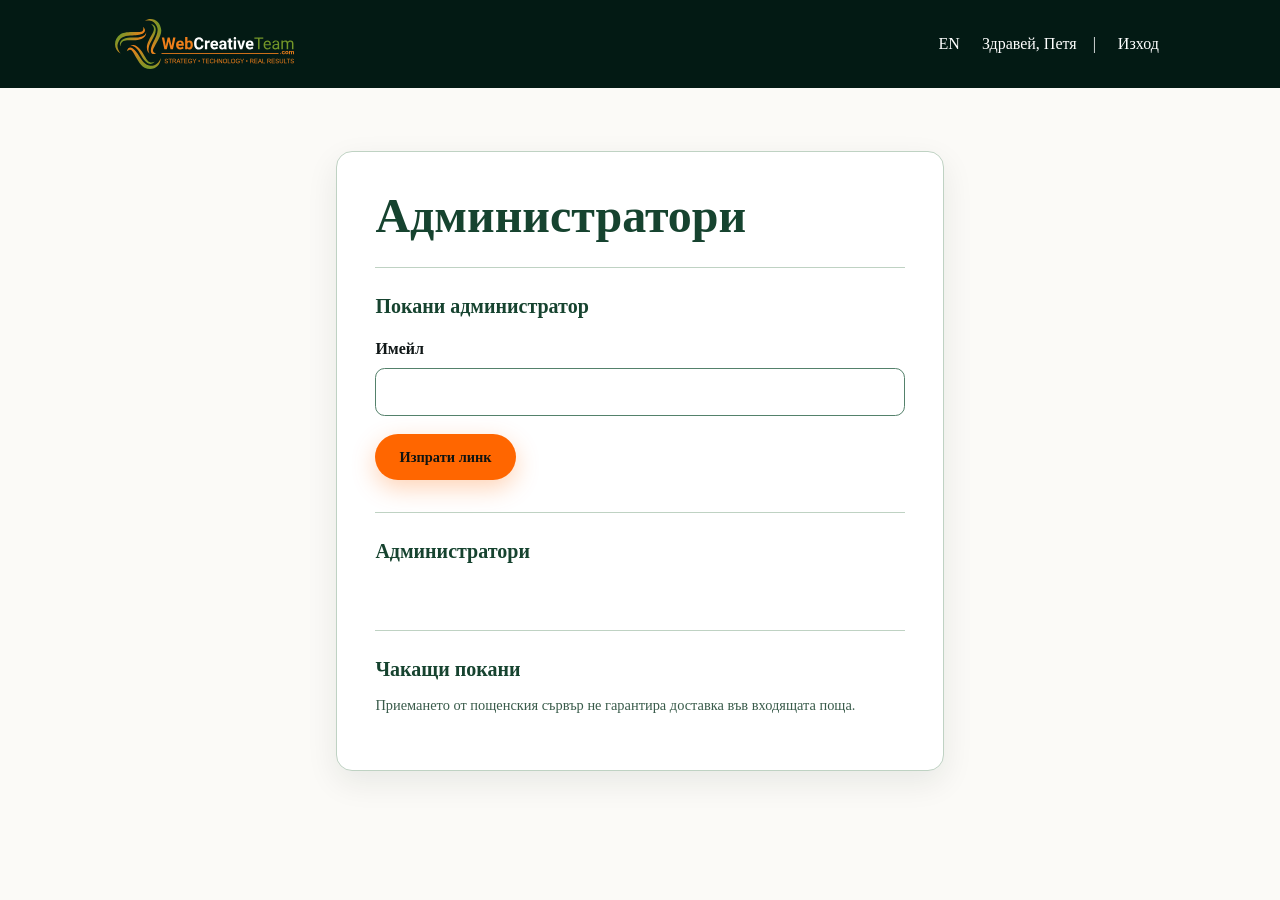
administrator confirmation › prompts once, clears a cancelled password, and retries an invitation with the rotated CSRF token
The width and height of the screenshot is (1280, 900).
Expected: the field labelled "Текуща парола" is not shown
In the field labelled "Имейл": (640, 392) 376,369 -> 904,415, type "partner@example.test"
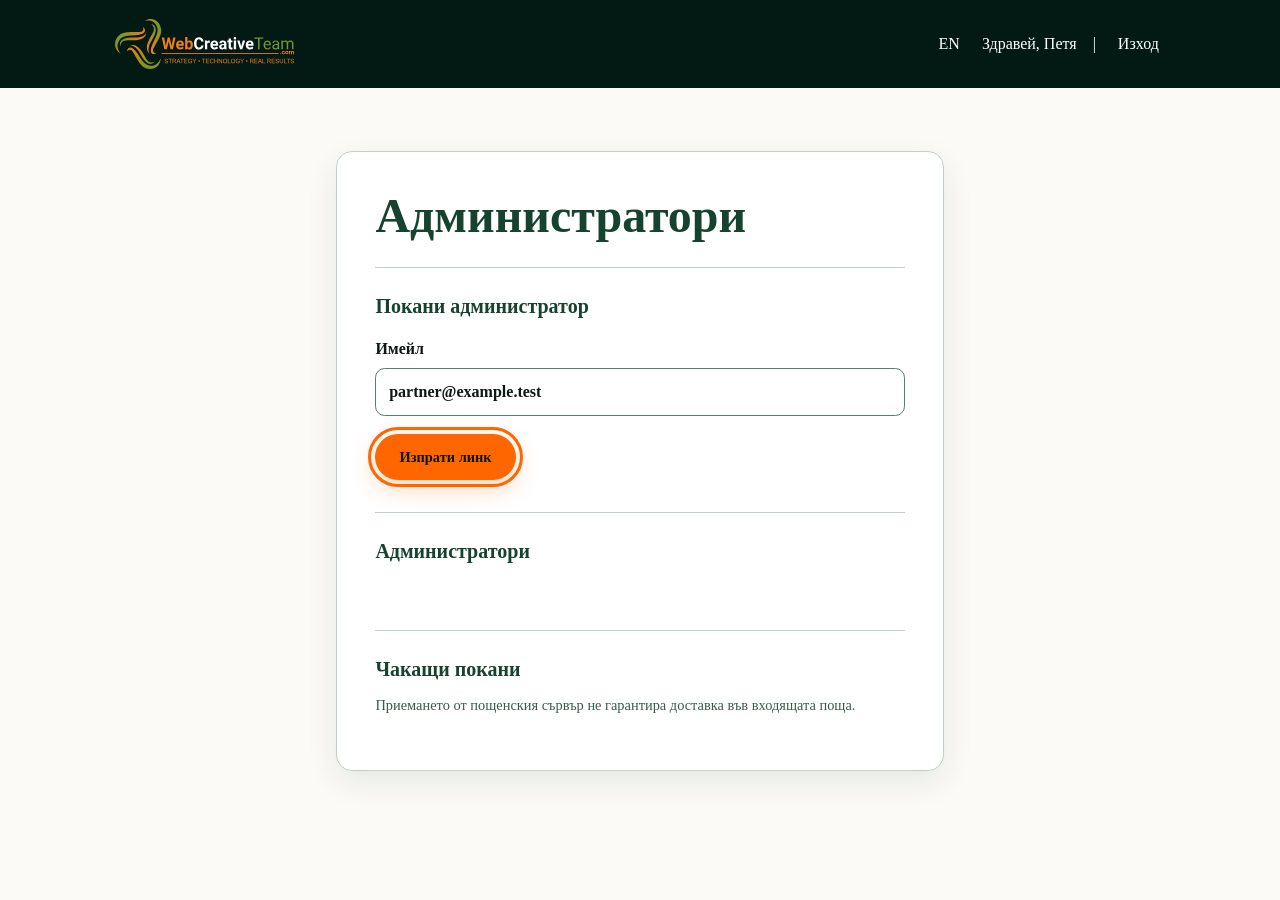
Click the button "Изпрати линк": (446, 457) 375,434 -> 516,480
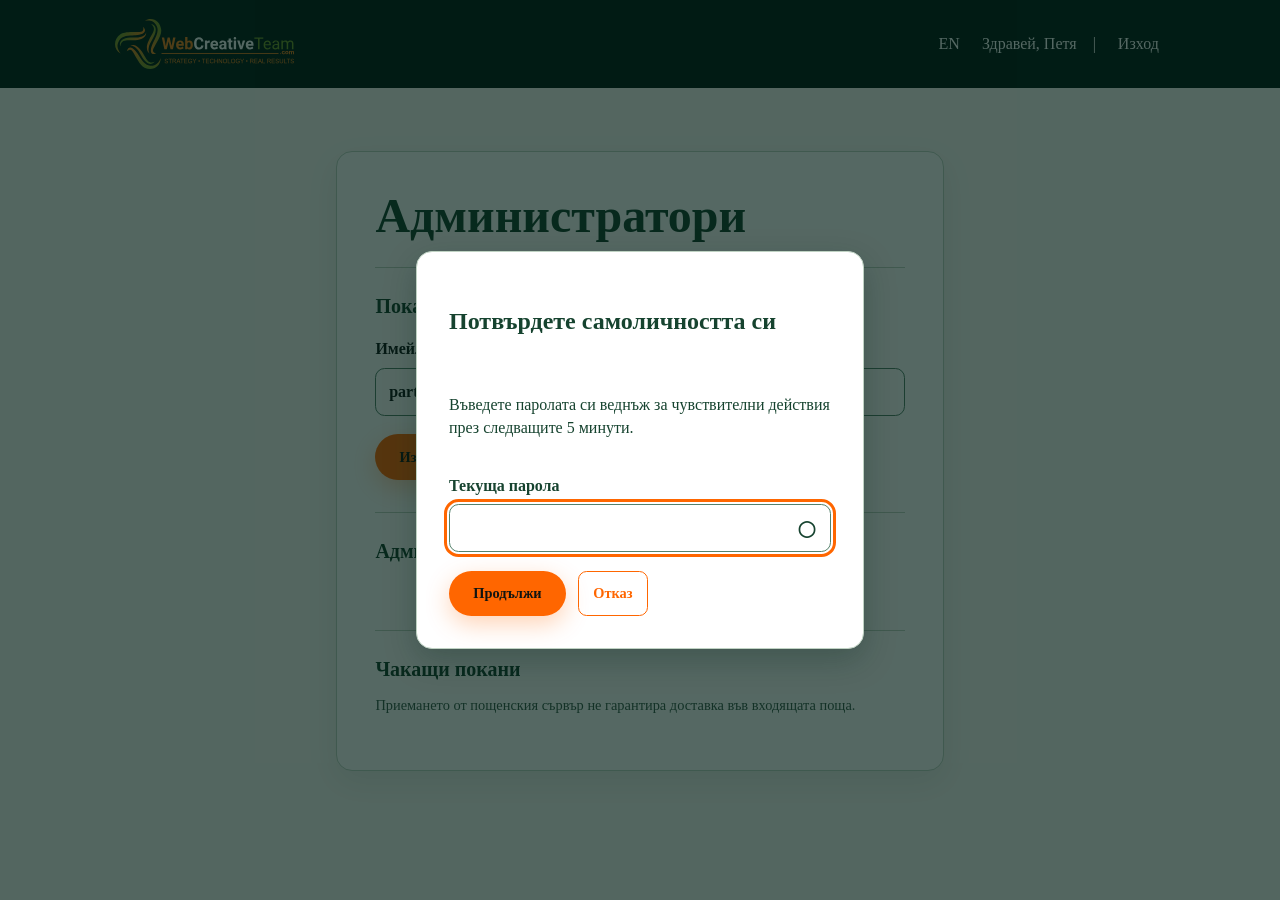
In the password field labelled "Текуща парола": (617, 528) 450,505 -> 784,551, type "temporary secret"
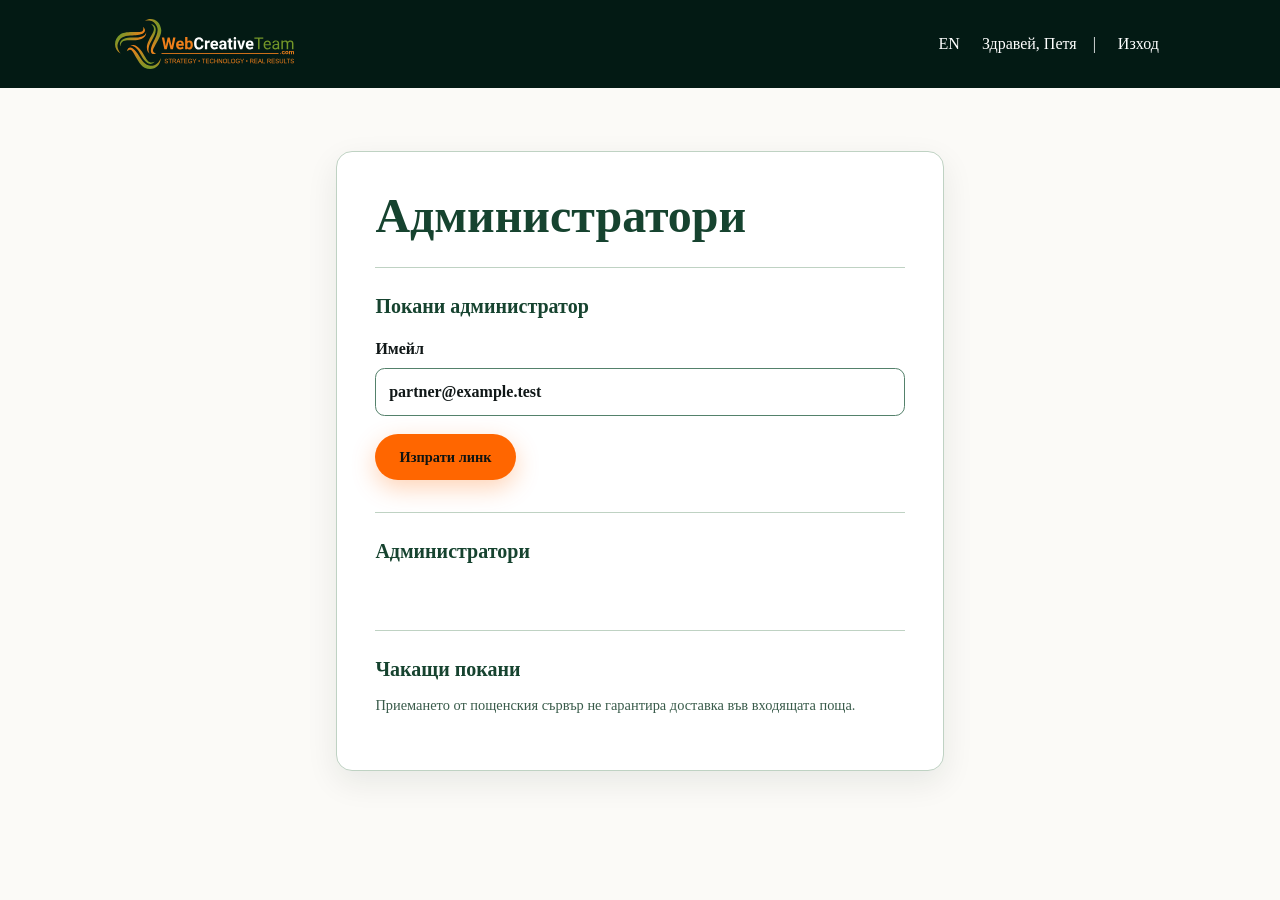
Click the button "Изпрати линк": (446, 457) 375,434 -> 516,480
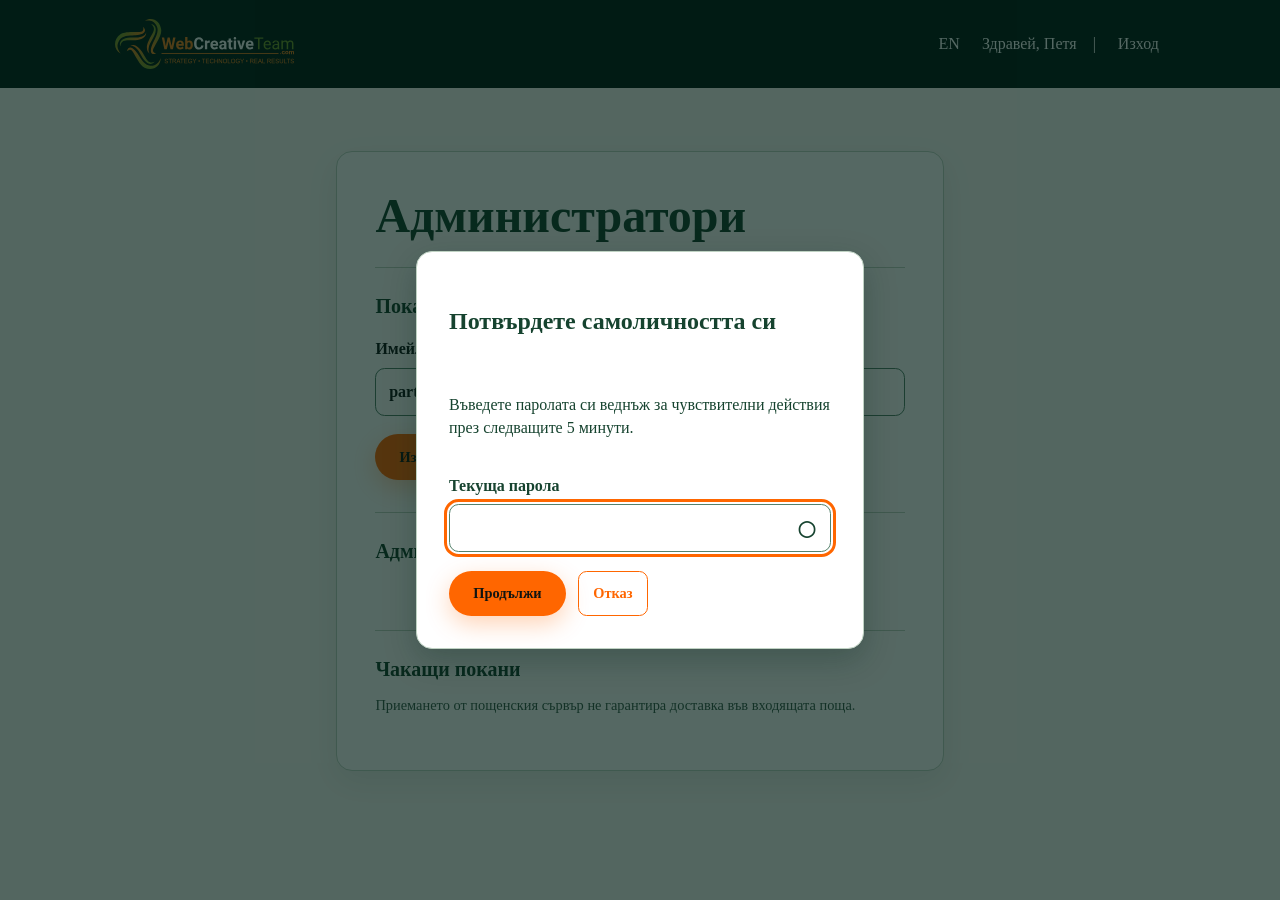
In the password field labelled "Текуща парола": (617, 528) 450,505 -> 784,551, type "correct horse battery staple"
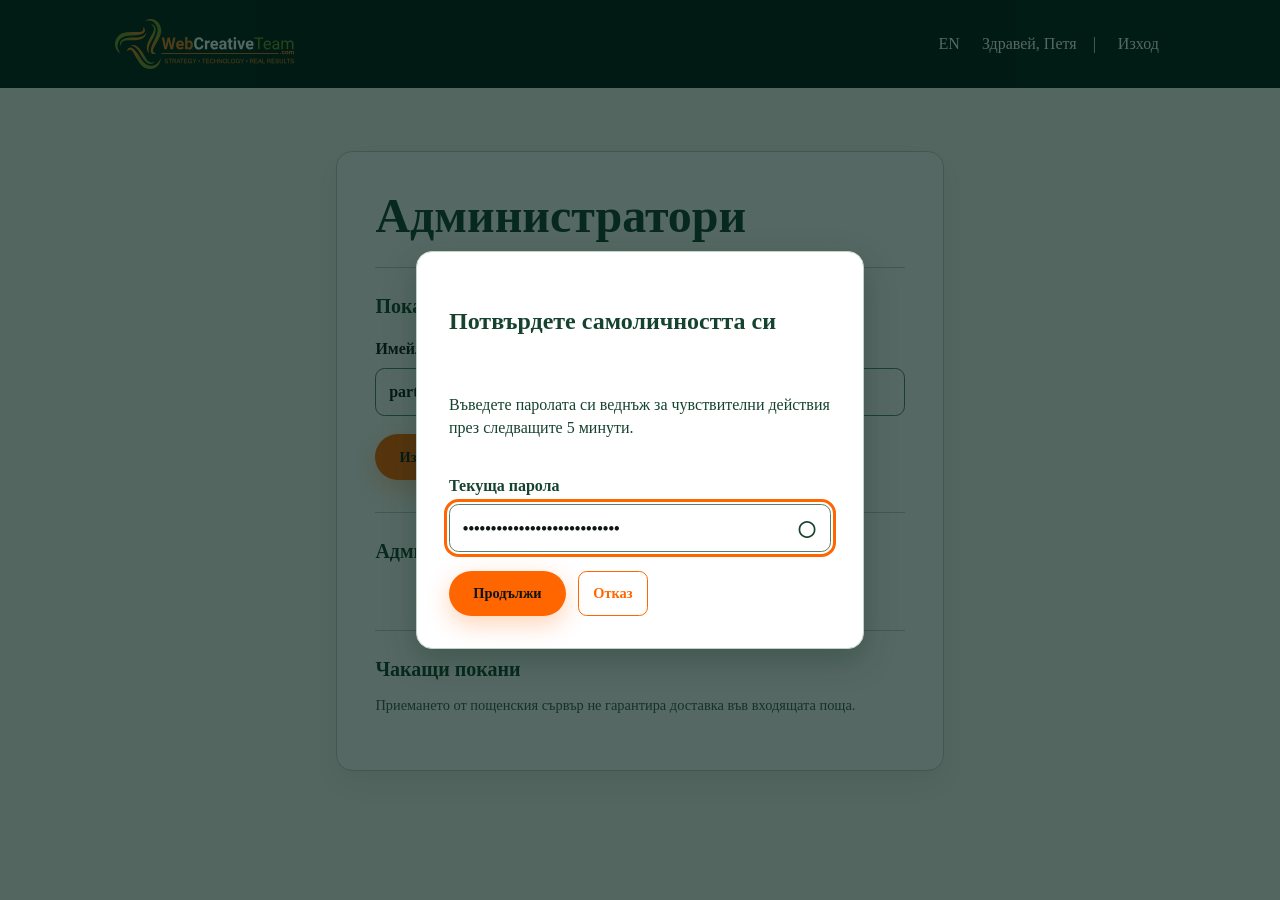
Click the button "Продължи": (507, 593) 449,571 -> 566,616
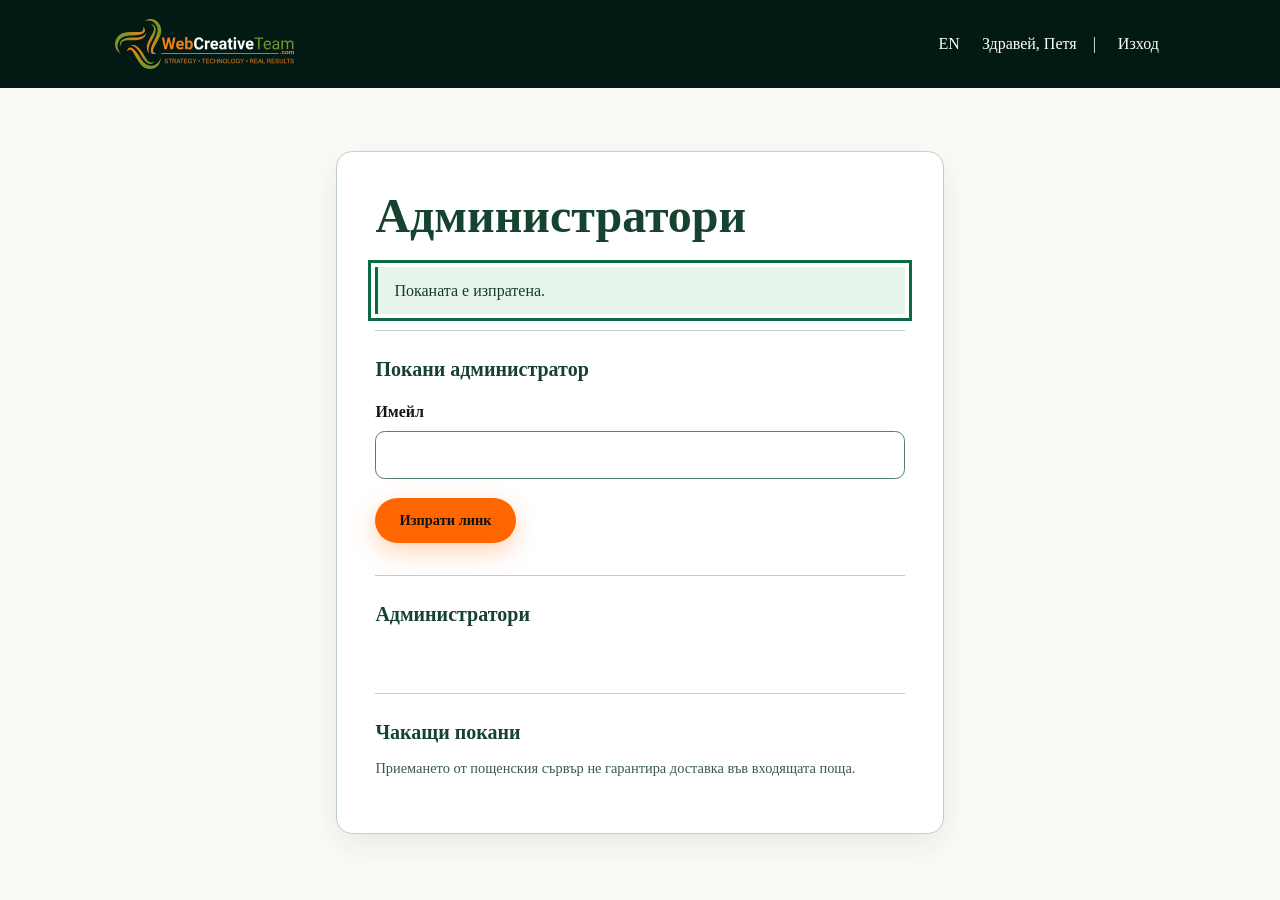
Expected: the text "Поканата е изпратена." is shown, 375,267 -> 905,314
